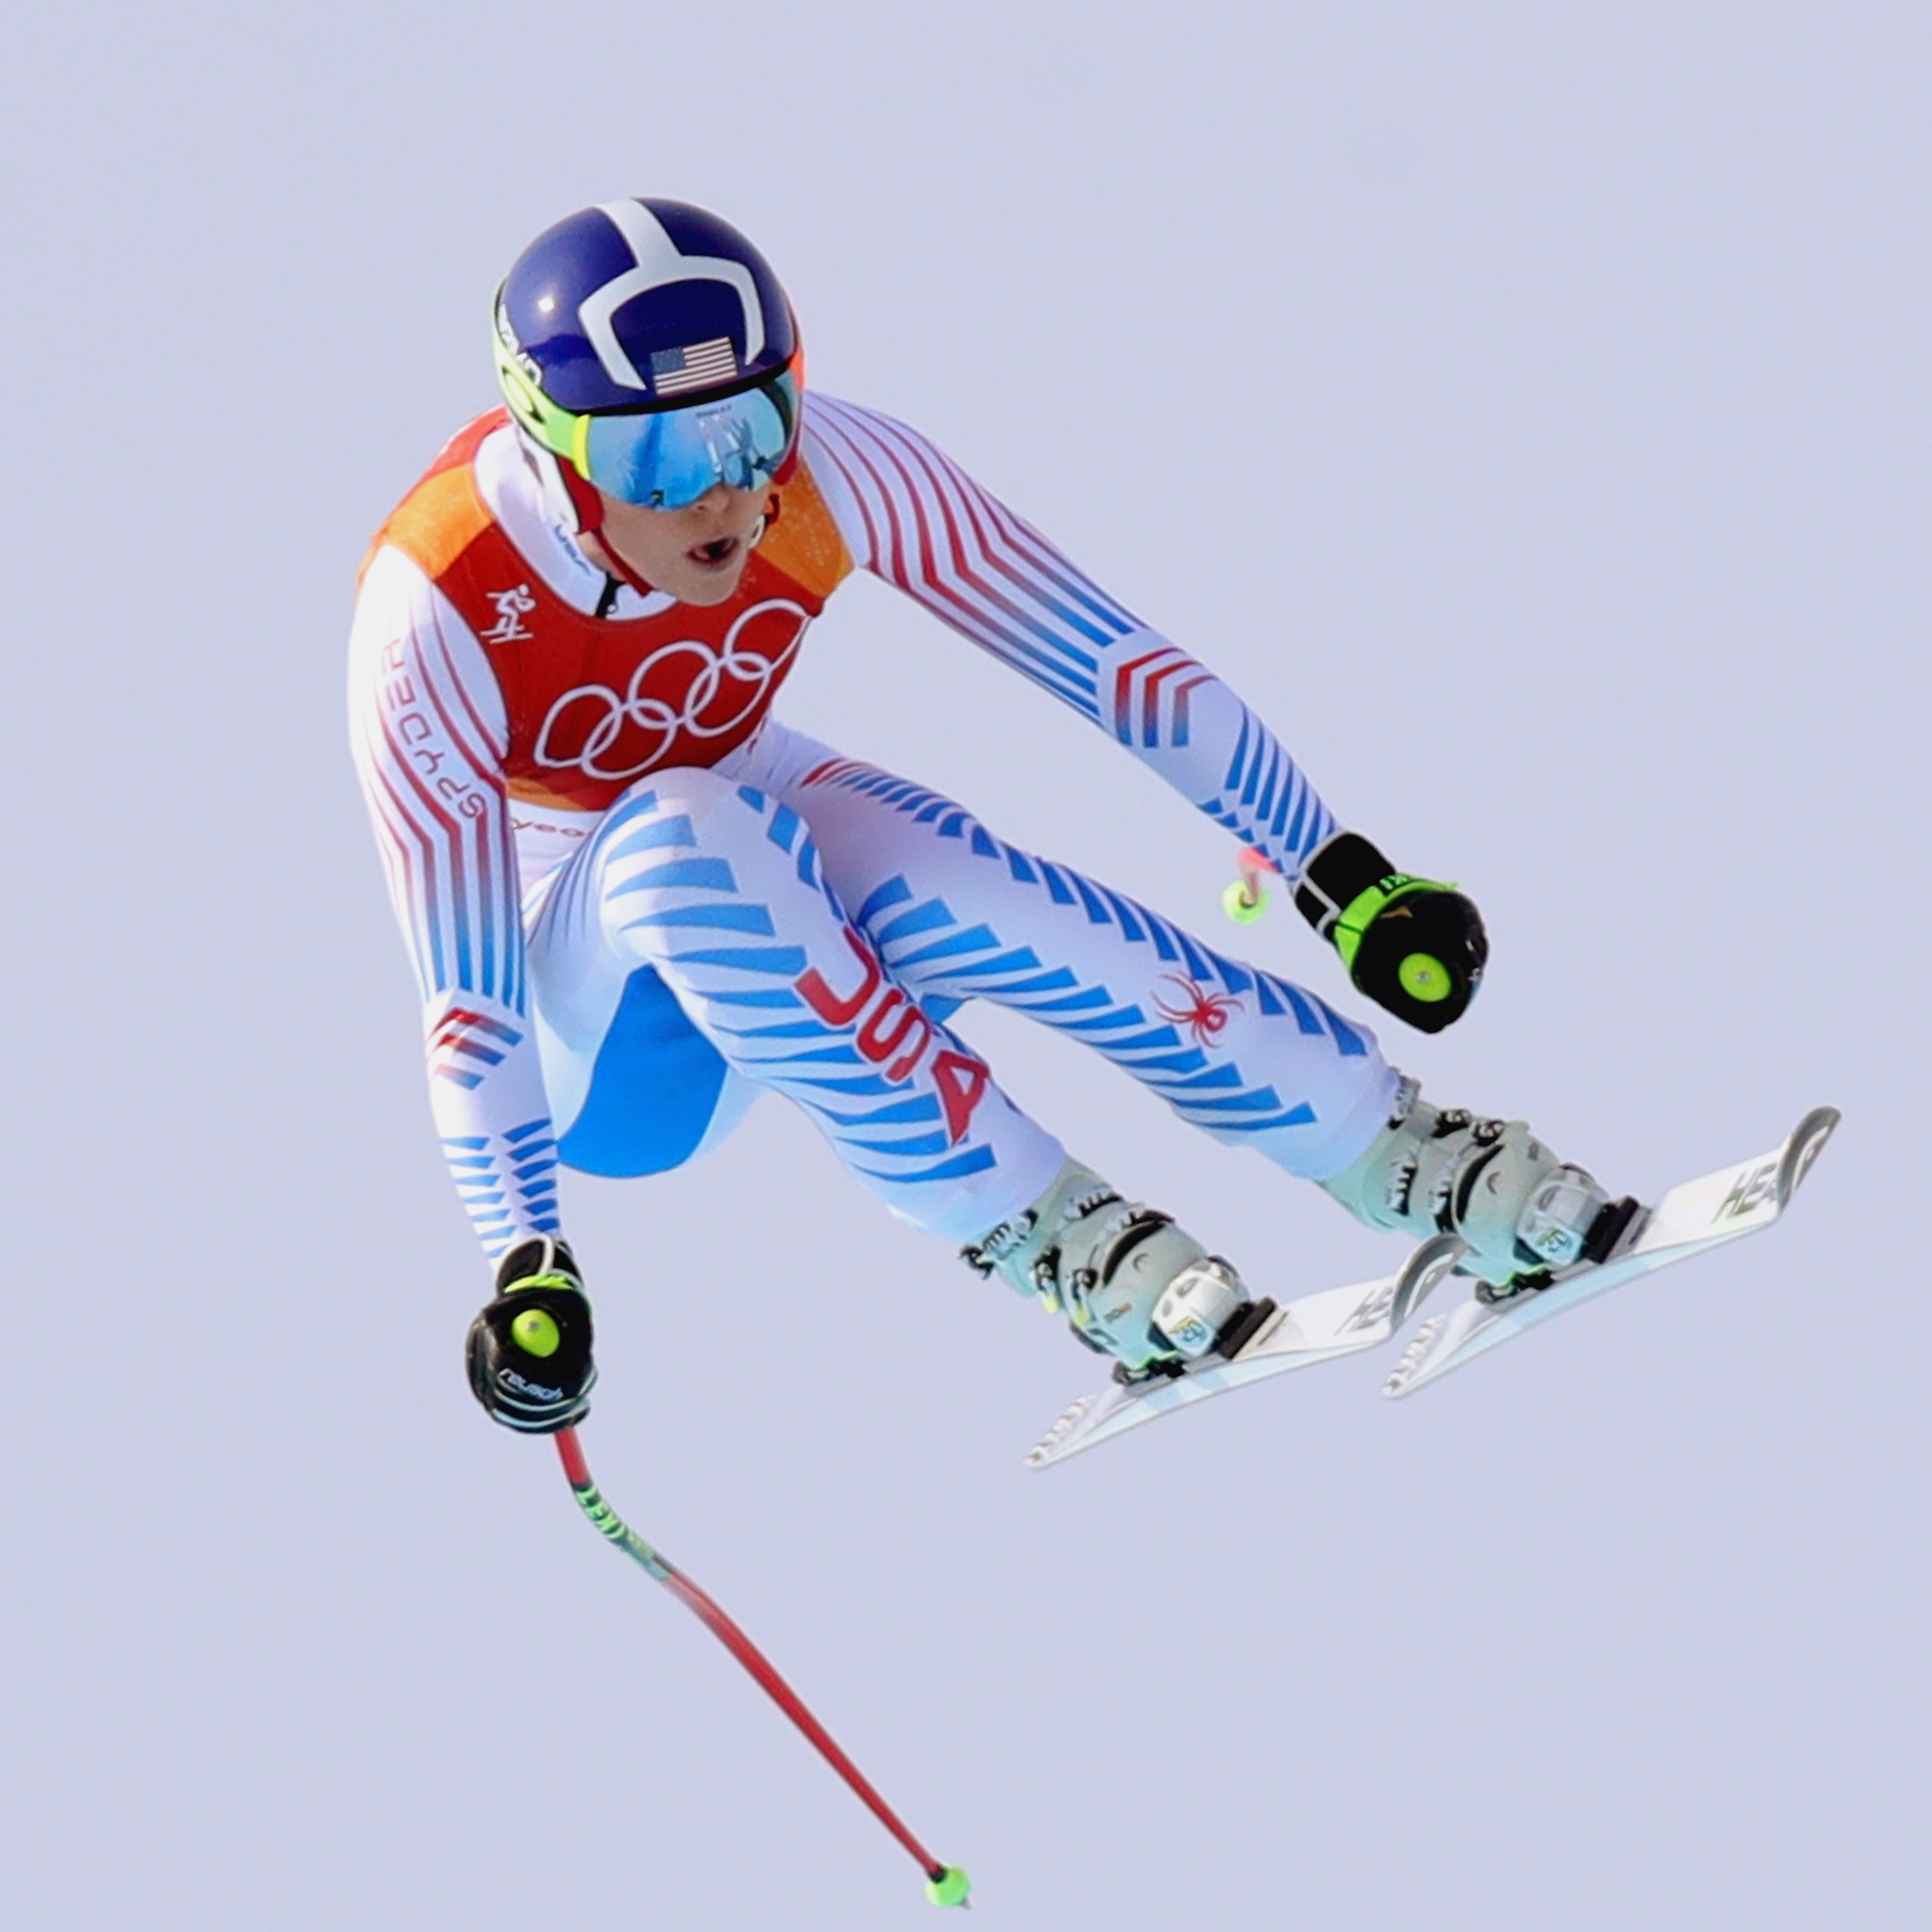skier: (209, 165, 1932, 1932)
